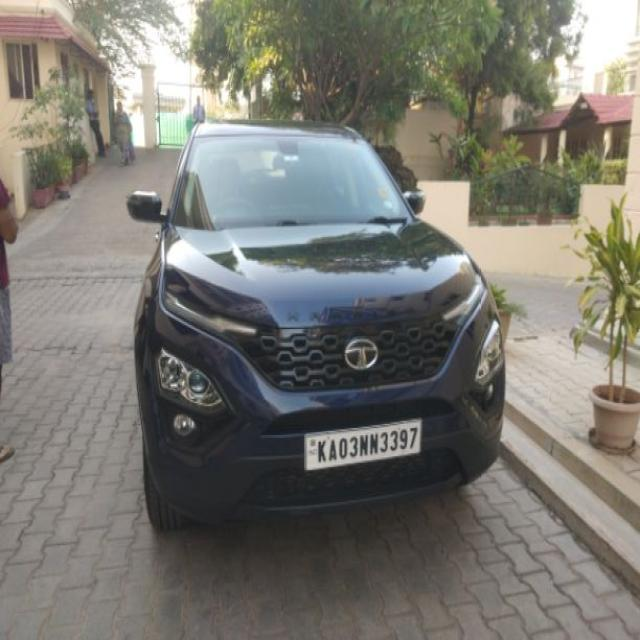license_plate: (302, 417, 423, 471)
